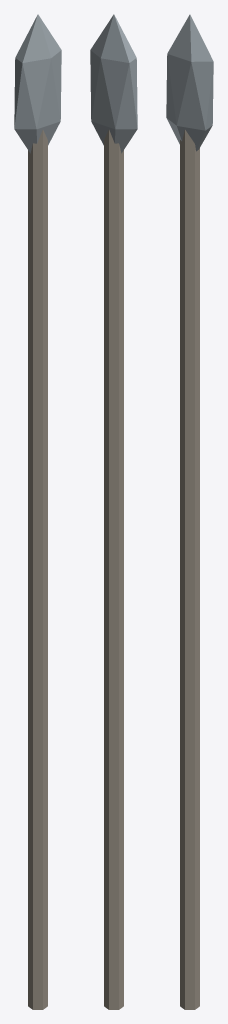
The model's file is SM_NPC_Prop_01_Spear.glb.
The picture shows the model from 3 angles, left to right: view 1: azimuth 30°, elevation 25°; view 2: azimuth 150°, elevation 25°; view 3: azimuth 330°, elevation 25°; orthographic projection.
Visible parts, largest first — view 1: SM_NPC_Prop_01_Spear; view 2: SM_NPC_Prop_01_Spear; view 3: SM_NPC_Prop_01_Spear.
Part boxes in pixels (bbox=[...]): SM_NPC_Prop_01_Spear: bbox=[14, 14, 61, 1009]; SM_NPC_Prop_01_Spear: bbox=[90, 14, 137, 1009]; SM_NPC_Prop_01_Spear: bbox=[166, 14, 213, 1009].
Bounding box in the file's own units: 0.0984 × 1.97 × 0.0425.
